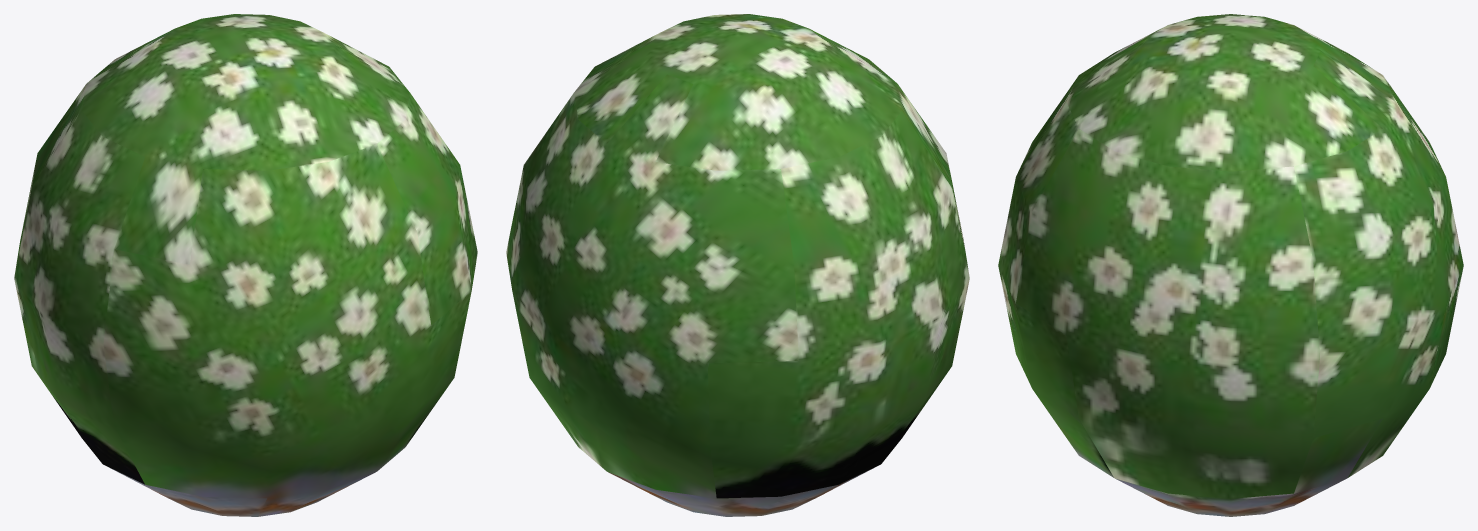
File: bush_flower_2.glb
3 renders of one model, left to right at view 1: azimuth 30°, elevation 25°; view 2: azimuth 150°, elevation 25°; view 3: azimuth 270°, elevation 25°, orthographic.
Visible parts, largest first — view 1: ЦІЛЬ; view 2: ЦІЛЬ; view 3: ЦІЛЬ.
Boxes of the visible parts, x1,y1,x2,y2 form: ЦІЛЬ: [14, 14, 477, 516]; ЦІЛЬ: [506, 14, 969, 516]; ЦІЛЬ: [998, 14, 1463, 516].
Bounding box in the file's own units: 0.2879 × 0.3147 × 0.287.
Materials: 1 (1 with a texture image).
